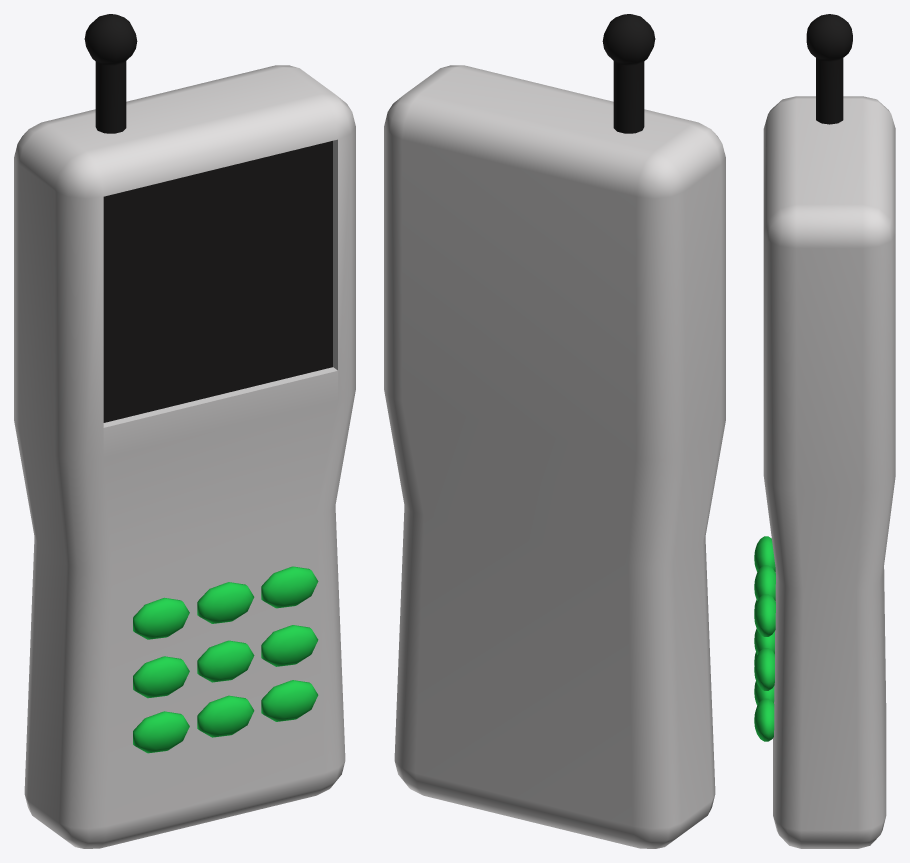
Rendered from Phone.fbx.
3 views of the same model, side by side, from view 1: azimuth 30°, elevation 25°; view 2: azimuth 150°, elevation 25°; view 3: azimuth 270°, elevation 25° (orthographic). The views are drawn at different scales.
Visible parts, largest first — view 1: Phone; view 2: Phone; view 3: Phone.
Part boxes in pixels (bbox=[...]): Phone: bbox=[14, 14, 355, 848]; Phone: bbox=[384, 14, 725, 848]; Phone: bbox=[754, 14, 895, 848].
Size of the model in its own units: 7.66 by 20.04 by 3.44.
